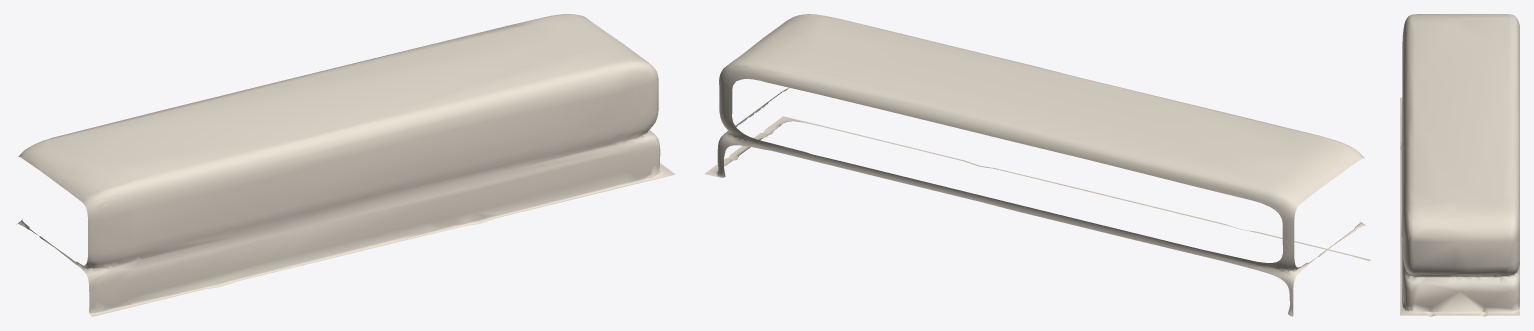
Rendered from show_kitchen_bench.glb.
3 renders of one model, left to right at view 1: azimuth 30°, elevation 25°; view 2: azimuth 150°, elevation 25°; view 3: azimuth 270°, elevation 25°, orthographic. The views are drawn at different scales.
Parts seen in each view (by area): view 1: mesh_0; view 2: mesh_0; view 3: mesh_0.
Part boxes in pixels (x1,y1,x2,y2): mesh_0: (16,14,675,316); mesh_0: (705,14,1370,316); mesh_0: (1400,14,1519,316).
Bounding box in the file's own units: 2.8 × 0.55 × 0.65.
